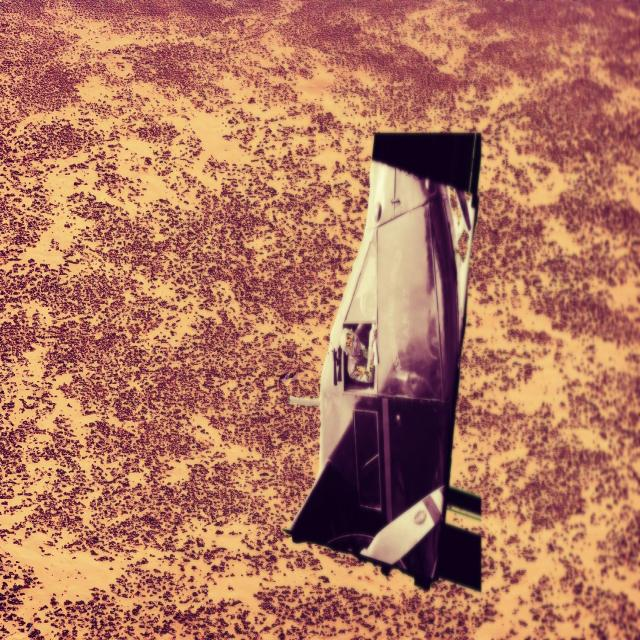airplane: (283, 130, 483, 592)
